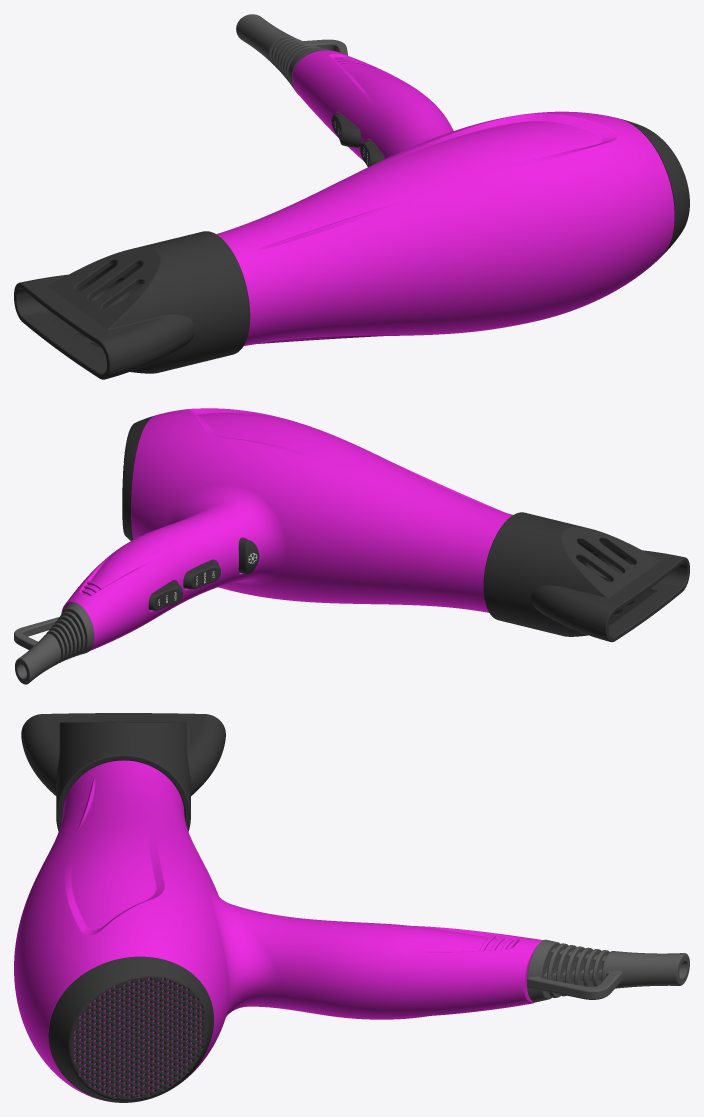
File: HairDryerBerta1_FBX_high.fbx
The picture shows the model from 3 angles, top to bottom: view 1: azimuth 30°, elevation 25°; view 2: azimuth 150°, elevation 25°; view 3: azimuth 270°, elevation 25°; orthographic projection. The views are drawn at different scales.
Parts seen in each view (by area): view 1: main, blow, cable, intake, button2; view 2: main, blow, cable, intake, button1, button2, power; view 3: main, intake, blow, cable.
Part boxes in pixels (bbox=[...]): main: bbox=[216, 50, 674, 345]; blow: bbox=[14, 231, 250, 379]; cable: bbox=[236, 14, 347, 94]; intake: bbox=[621, 119, 689, 253]; button2: bbox=[331, 112, 361, 147]; main: bbox=[61, 408, 512, 650]; blow: bbox=[483, 512, 689, 642]; cable: bbox=[14, 602, 93, 684]; intake: bbox=[122, 416, 153, 540]; button1: bbox=[183, 560, 220, 588]; button2: bbox=[148, 580, 182, 610]; power: bbox=[238, 538, 259, 574]; main: bbox=[14, 760, 543, 1102]; intake: bbox=[48, 956, 213, 1102]; blow: bbox=[21, 713, 225, 831]; cable: bbox=[527, 939, 689, 1002].
Bounding box in the file's own units: 347 × 98.96 × 315.
